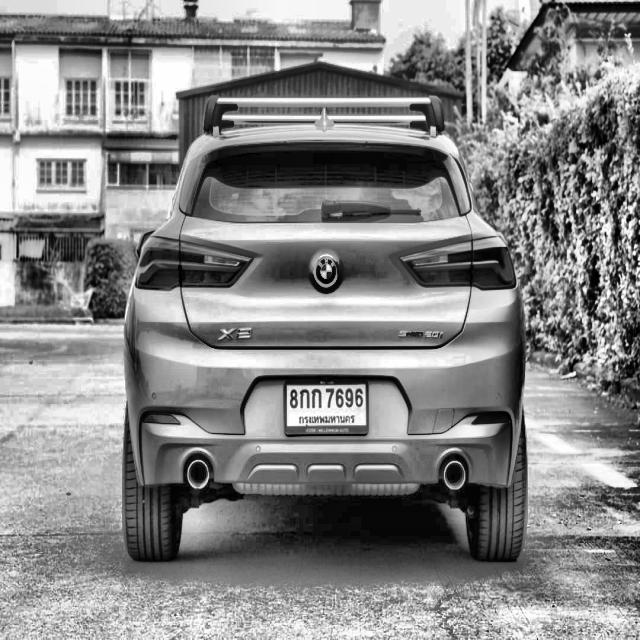license-plate: (283, 374, 375, 442)
